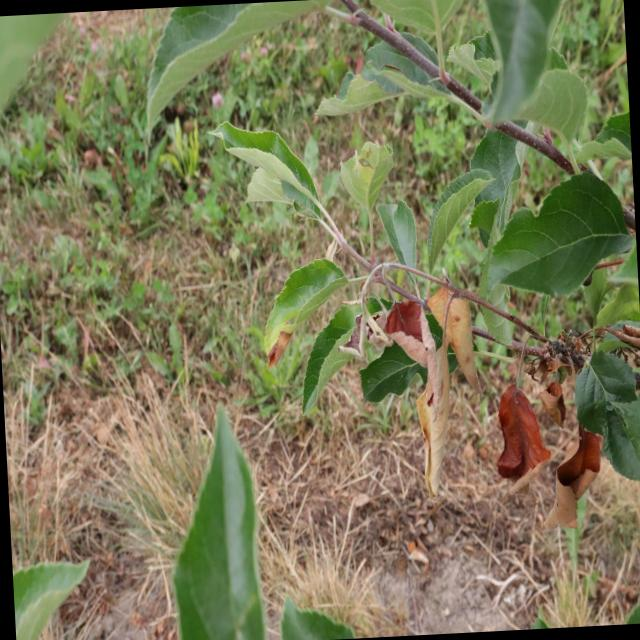-FireBlight-: (384, 255, 487, 484), (510, 324, 600, 534)
